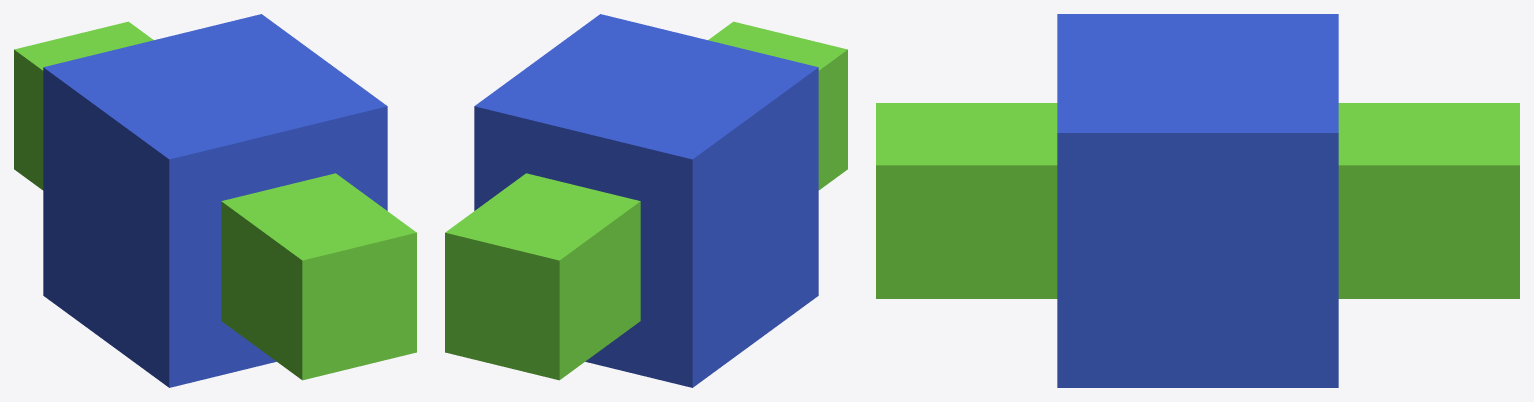
Rendered from simple.glb.
3 views of the same model, side by side, from view 1: azimuth 30°, elevation 25°; view 2: azimuth 150°, elevation 25°; view 3: azimuth 270°, elevation 25° (orthographic). The views are drawn at different scales.
Visible parts, largest first — view 1: outer_cube, mid_cube; view 2: outer_cube, mid_cube; view 3: outer_cube, mid_cube.
Boxes of the visible parts, x1,y1,x2,y2 form: outer_cube: (43,14,387,387); mid_cube: (14,21,416,380); outer_cube: (474,14,818,387); mid_cube: (445,21,847,380); outer_cube: (1057,14,1338,387); mid_cube: (876,103,1519,298).
Size of the model in its own units: 2 by 2 by 4.58.
